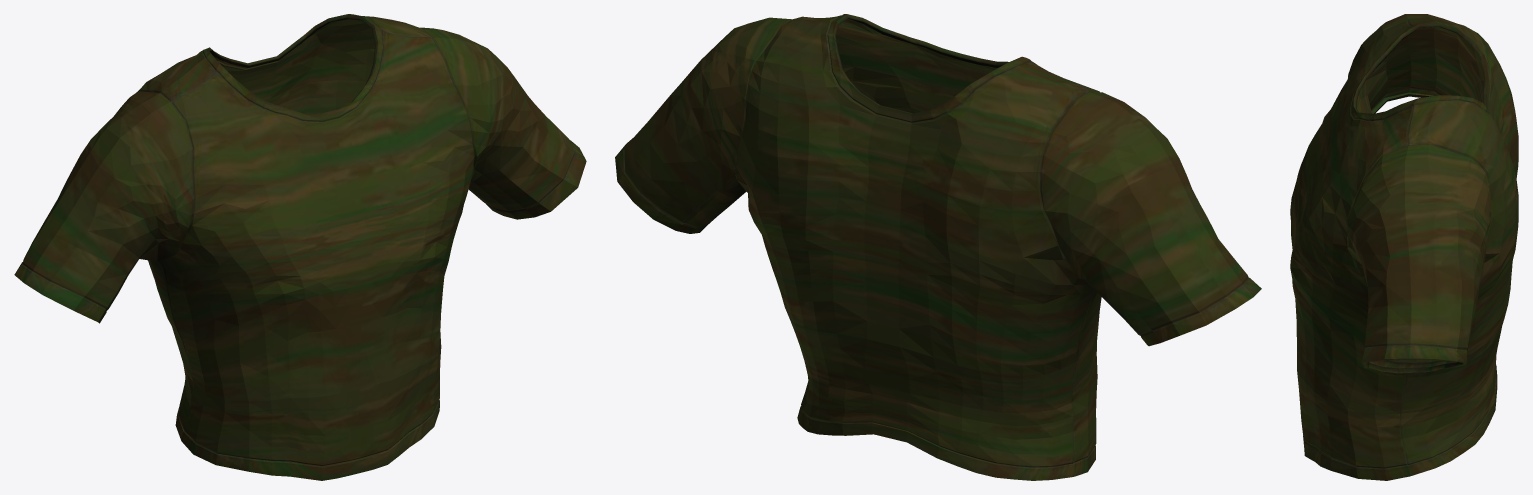
Rendered from mhw_drednicolson_short-tail_camo_tee.glb.
The picture shows the model from 3 angles, left to right: view 1: azimuth 30°, elevation 25°; view 2: azimuth 150°, elevation 25°; view 3: azimuth 270°, elevation 25°; orthographic projection. The views are drawn at different scales.
Parts seen in each view (by area): view 1: mhw_drednicolson_short-tail_camo_tee; view 2: mhw_drednicolson_short-tail_camo_tee; view 3: mhw_drednicolson_short-tail_camo_tee.
Boxes of the visible parts, x1,y1,x2,y2 form: mhw_drednicolson_short-tail_camo_tee: [14, 14, 586, 480]; mhw_drednicolson_short-tail_camo_tee: [615, 14, 1261, 480]; mhw_drednicolson_short-tail_camo_tee: [1290, 14, 1518, 480].
Size of the model in its own units: 0.74 by 0.496 by 0.2686.
Materials: 1 (1 with a texture image).
